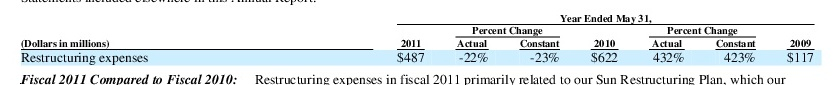table: (0, 0, 840, 85)
